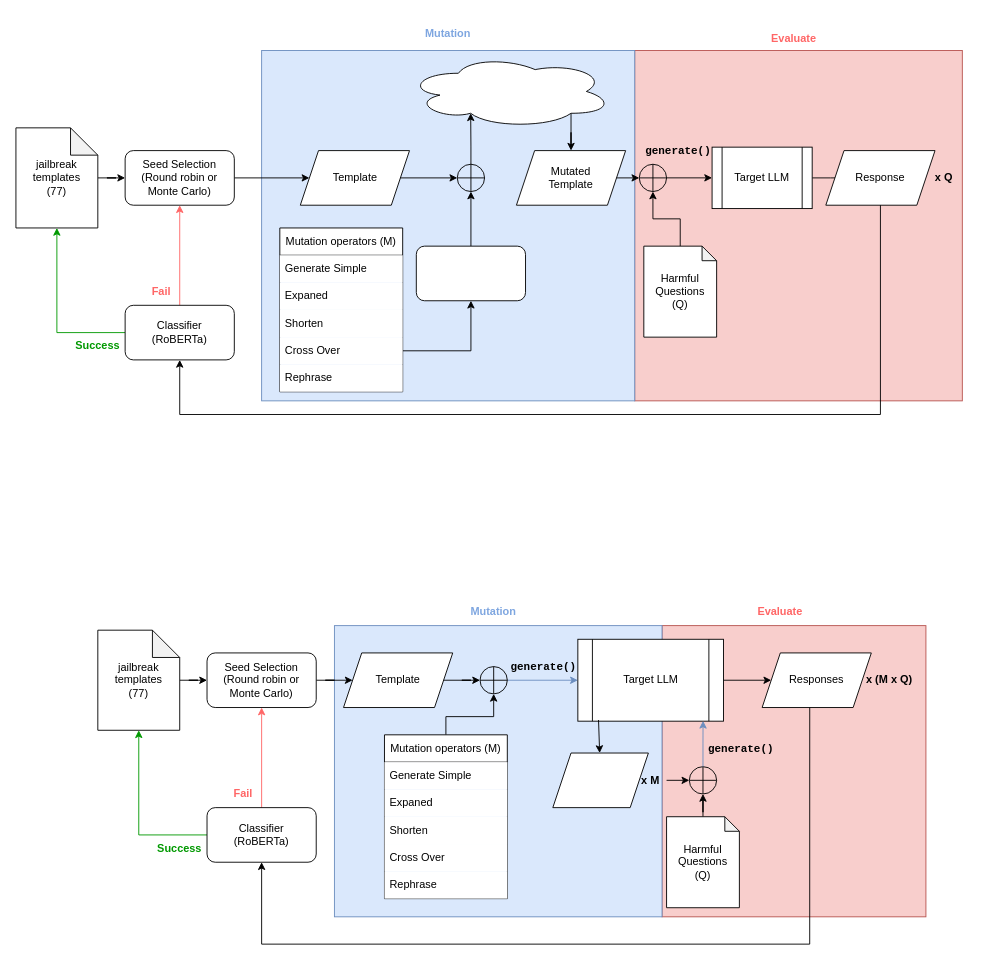
This 987x967 diagram has some shape labels left out. The shapes that lost their labels are listed below. From the top down, each one's centre as x and y in pixels, then its label:
(509,91): LLM Service
(470,273): Mutator Selection (Random)
(600,780): Mutated Templates
